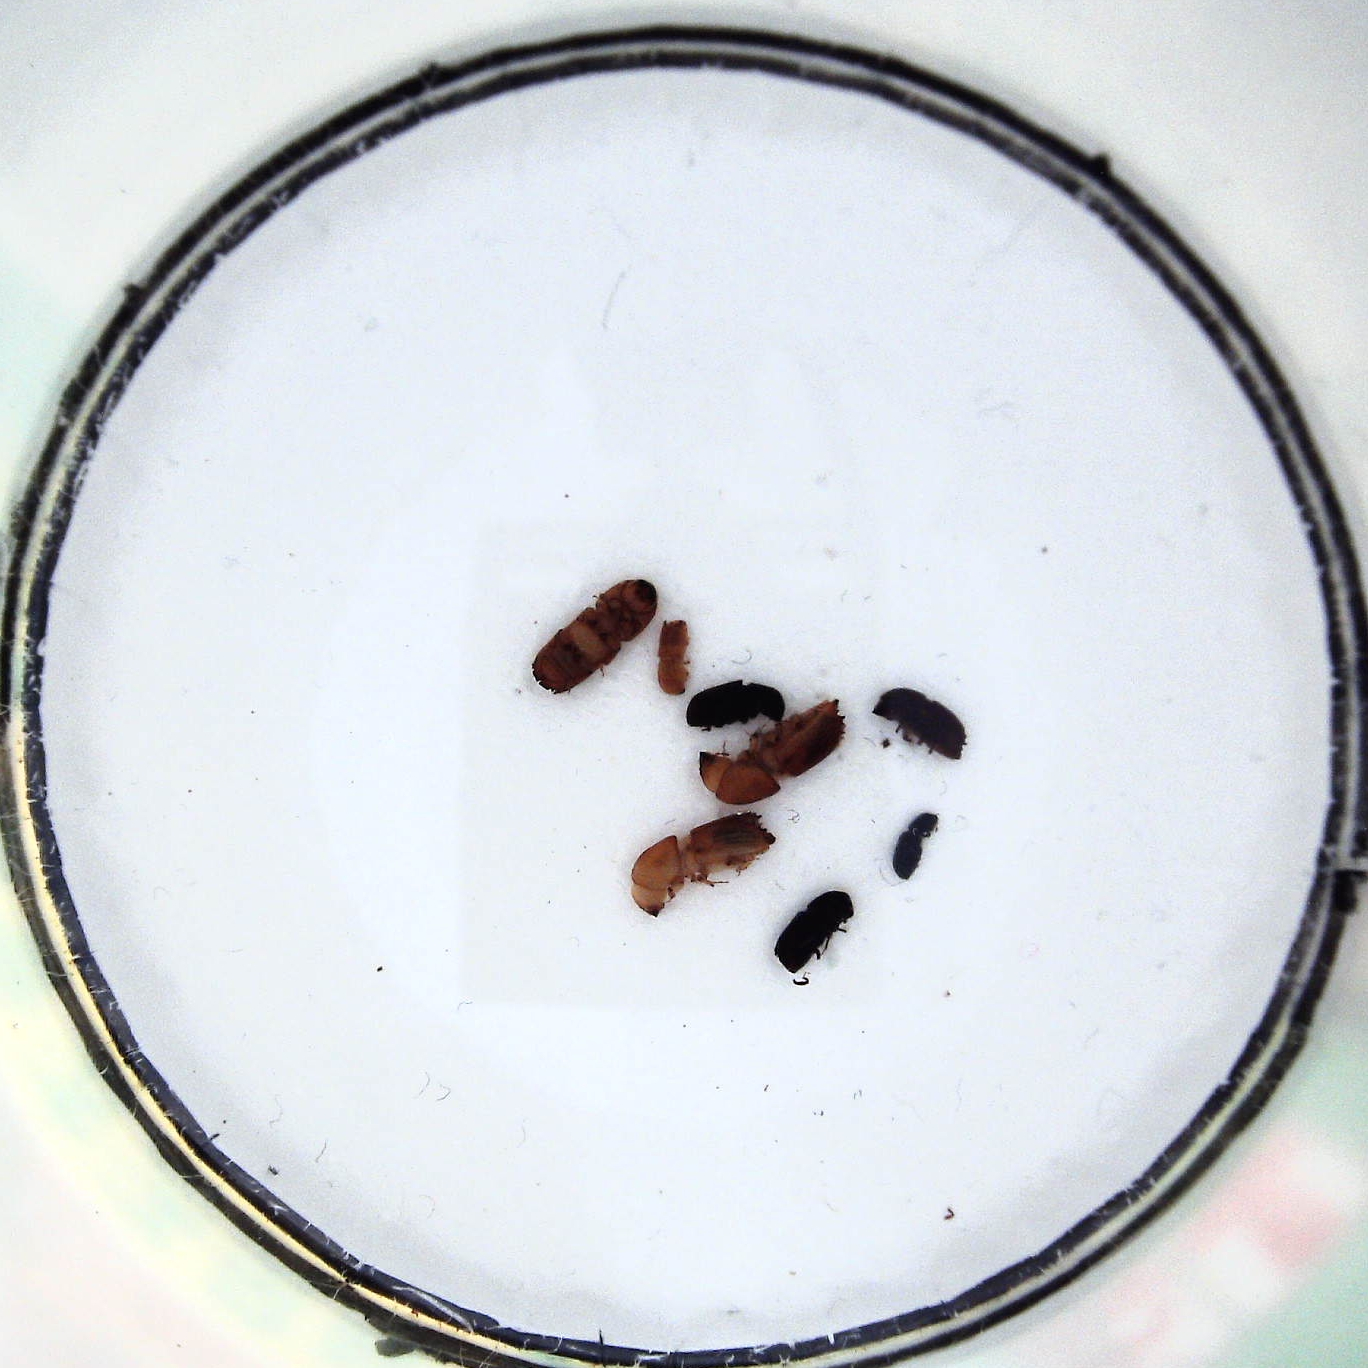Boerner: (526, 576, 658, 698), (625, 811, 778, 915), (698, 703, 846, 808)
Linnaeus: (872, 687, 968, 767), (773, 889, 856, 973)
acuminatus: (651, 618, 690, 697)
armandi: (684, 676, 785, 733)
coleoptera: (891, 811, 940, 881)
